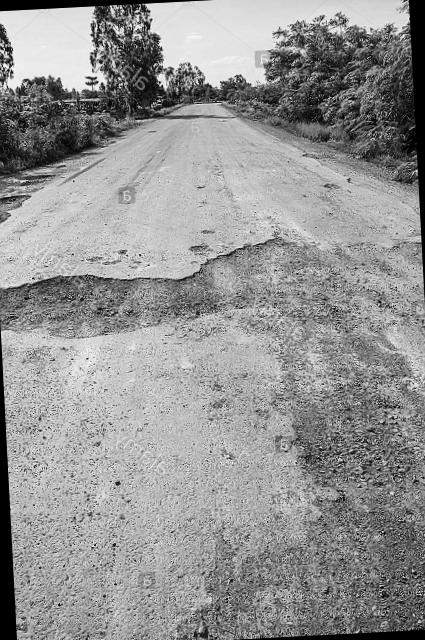Pothole: (1, 225, 425, 359)
